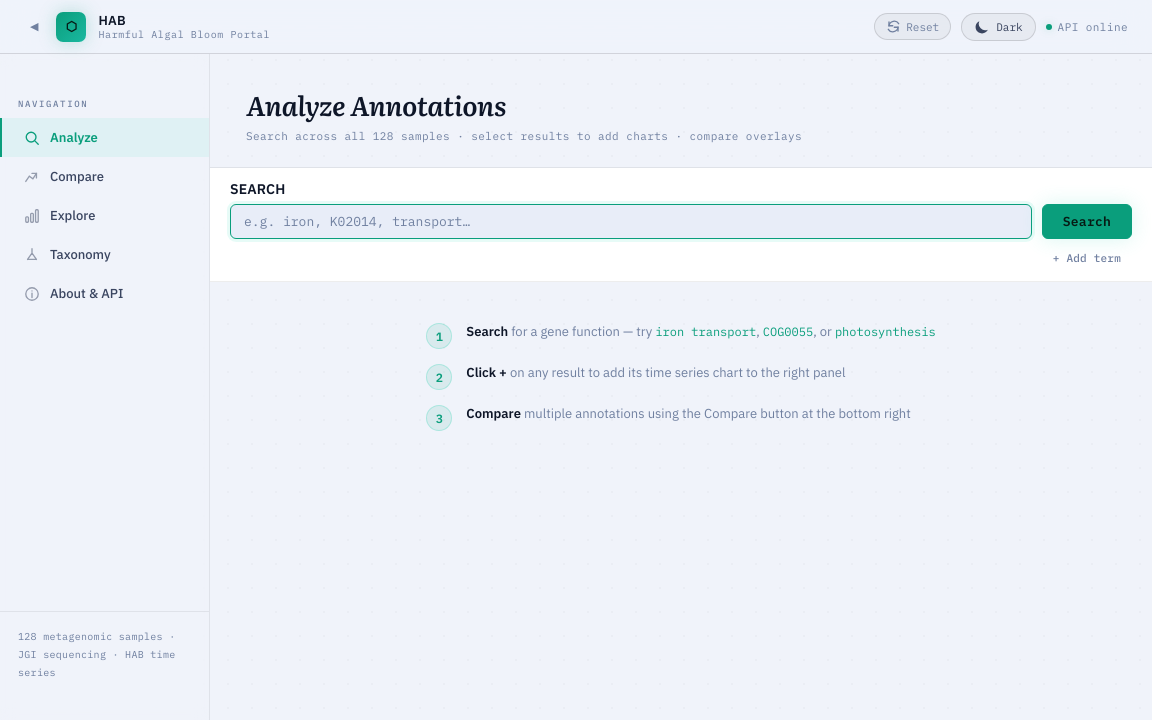
Test case: App shell › navigates to Explore page
The image size is (1152, 720).
Step 1. Click the text "Explore" → (73, 216), box x1=50 y1=207 x2=95 y2=224
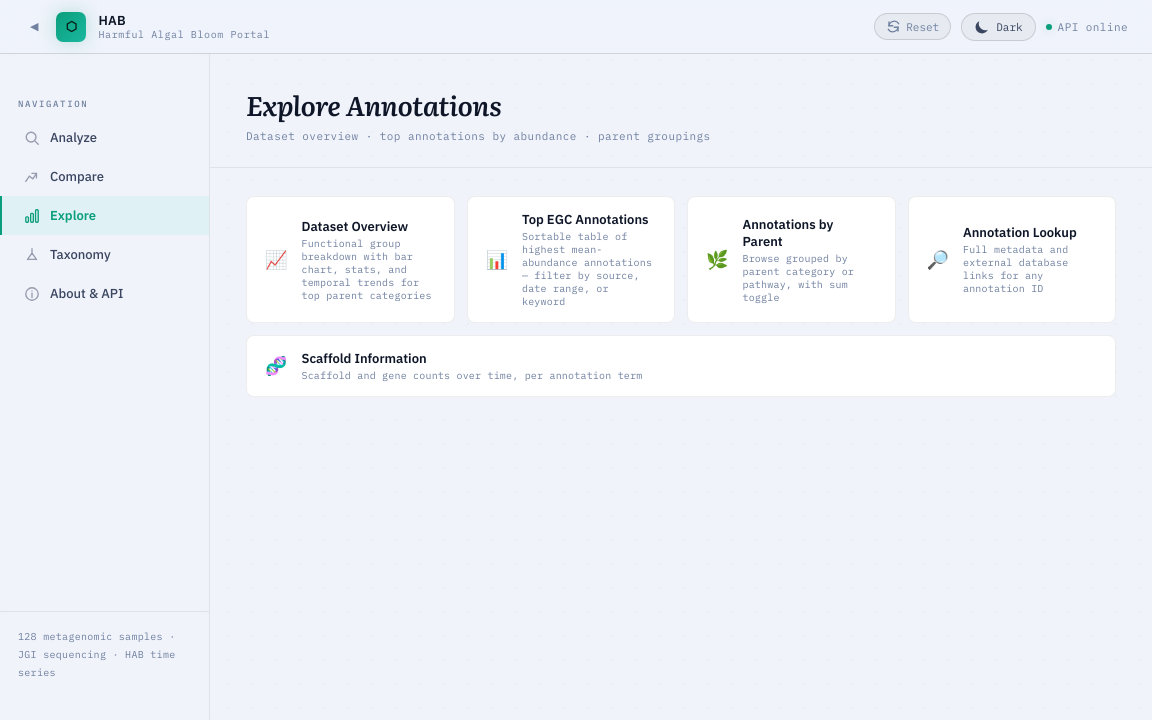
Check: the heading "Explore Annotations" is shown, box x1=246 y1=84 x2=502 y2=124
